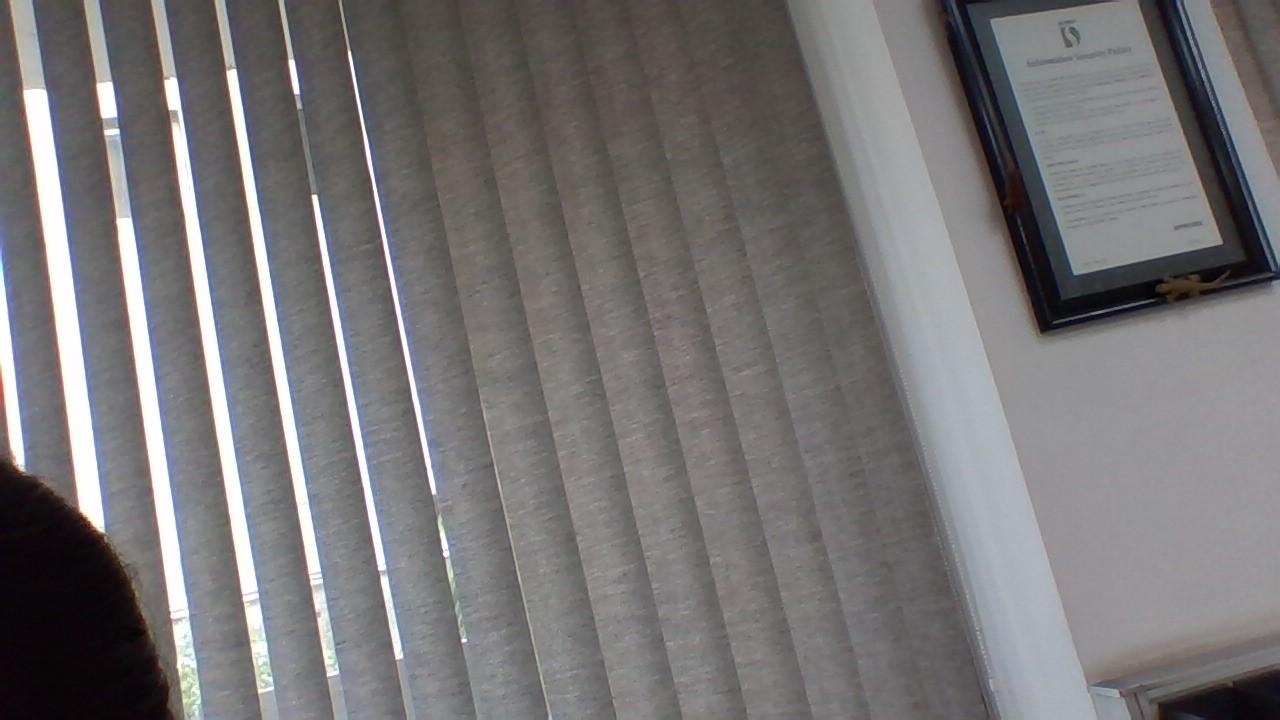cockroach: (989, 142, 1035, 241)
lizard: (1136, 255, 1249, 309)
